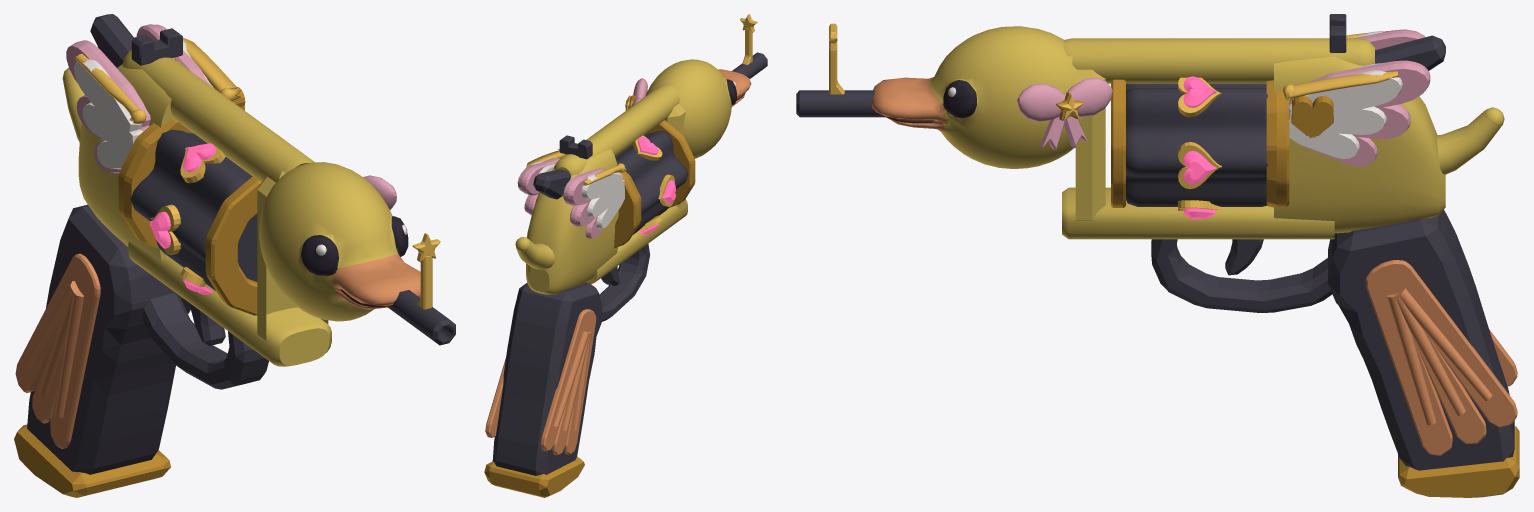
File: w_revolver@revolver_ducky.glb
3 renders of one model, left to right at view 1: azimuth 30°, elevation 25°; view 2: azimuth 150°, elevation 25°; view 3: azimuth 270°, elevation 25°, orthographic. The views are drawn at different scales.
Parts seen in each view (by area): view 1: body_wzA__duck__pd0b551, grip_wzB__metal__p3e3b47, grip_wzN__bill__pd88c5c, cylinder_wzB__metal__p3e3b47, cylinder_wzN__gold2__pb8862b, guard_wzB__metal__p3e3b47, grip_wzN__gold2__pb8862b, wing_wzA__pearl__pece6e1, body_wzN__bill__pd88c5c, wing_wzA__pink__pdc9db3, wing_wzN__gold__pe6b64c, barrel_wzB__metal__p3e3b47 (+8 smaller); view 2: body_wzA__duck__pd0b551, grip_wzB__metal__p3e3b47, grip_wzN__bill__pd88c5c, cylinder_wzB__metal__p3e3b47, cylinder_wzN__gold2__pb8862b, wing_wzA__pink__pdc9db3, grip_wzN__gold2__pb8862b, wing_wzA__pearl__pece6e1, guard_wzB__metal__p3e3b47, hammer_wzN__metal__p3e3b47, cylinder_wzN__gold__pe6b64c, cylinder_wzN__glowdim__na8456f (+5 smaller); view 3: body_wzA__duck__pd0b551, grip_wzB__metal__p3e3b47, grip_wzN__bill__pd88c5c, cylinder_wzB__metal__p3e3b47, guard_wzB__metal__p3e3b47, cylinder_wzN__gold2__pb8862b, wing_wzA__pearl__pece6e1, wing_wzA__pink__pdc9db3, grip_wzN__gold2__pb8862b, body_wzN__pink__pdc9db3, body_wzN__bill__pd88c5c, barrel_wzB__metal__p3e3b47 (+7 smaller).
Boxes of the visible parts, x1,y1,x2,y2 form: body_wzA__duck__pd0b551: [62, 50, 398, 366]; grip_wzB__metal__p3e3b47: [27, 204, 190, 474]; grip_wzN__bill__pd88c5c: [15, 253, 100, 448]; cylinder_wzB__metal__p3e3b47: [130, 129, 257, 290]; cylinder_wzN__gold2__pb8862b: [118, 118, 261, 315]; guard_wzB__metal__p3e3b47: [141, 293, 268, 389]; grip_wzN__gold2__pb8862b: [14, 424, 170, 497]; wing_wzA__pearl__pece6e1: [74, 41, 212, 169]; body_wzN__bill__pd88c5c: [332, 254, 420, 309]; wing_wzA__pink__pdc9db3: [66, 24, 210, 173]; wing_wzN__gold__pe6b64c: [75, 37, 241, 123]; barrel_wzB__metal__p3e3b47: [387, 290, 455, 345]; body_wzA__duck__pd0b551: [515, 59, 732, 294]; grip_wzB__metal__p3e3b47: [492, 282, 602, 475]; grip_wzN__bill__pd88c5c: [485, 309, 596, 455]; cylinder_wzB__metal__p3e3b47: [615, 131, 688, 234]; cylinder_wzN__gold2__pb8862b: [614, 120, 695, 248]; wing_wzA__pink__pdc9db3: [517, 158, 606, 238]; grip_wzN__gold2__pb8862b: [484, 457, 584, 497]; wing_wzA__pearl__pece6e1: [530, 160, 624, 228]; guard_wzB__metal__p3e3b47: [599, 244, 649, 321]; hammer_wzN__metal__p3e3b47: [533, 169, 571, 199]; cylinder_wzN__gold__pe6b64c: [633, 135, 674, 233]; cylinder_wzN__glowdim__na8456f: [637, 136, 675, 235]; body_wzA__duck__pd0b551: [930, 26, 1504, 239]; grip_wzB__metal__p3e3b47: [1328, 210, 1514, 470]; grip_wzN__bill__pd88c5c: [1365, 260, 1517, 455]; cylinder_wzB__metal__p3e3b47: [1126, 83, 1268, 206]; guard_wzB__metal__p3e3b47: [1151, 239, 1332, 312]; cylinder_wzN__gold2__pb8862b: [1111, 79, 1289, 207]; wing_wzA__pearl__pece6e1: [1288, 31, 1402, 158]; wing_wzA__pink__pdc9db3: [1289, 29, 1430, 166]; grip_wzN__gold2__pb8862b: [1398, 426, 1519, 497]; body_wzN__pink__pdc9db3: [1017, 77, 1112, 150]; body_wzN__bill__pd88c5c: [871, 77, 945, 131]; barrel_wzB__metal__p3e3b47: [796, 90, 885, 117].
Size of the model in its own units: 0.0987 by 0.3001 by 0.43.
